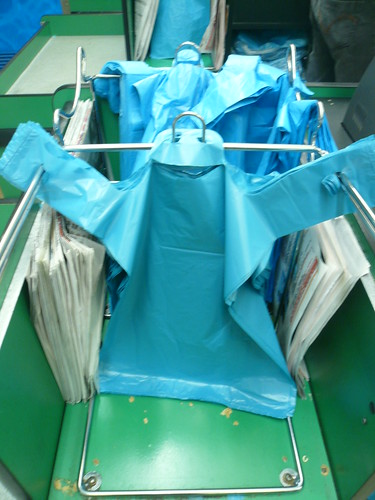plastic bag: (1, 50, 375, 416)
